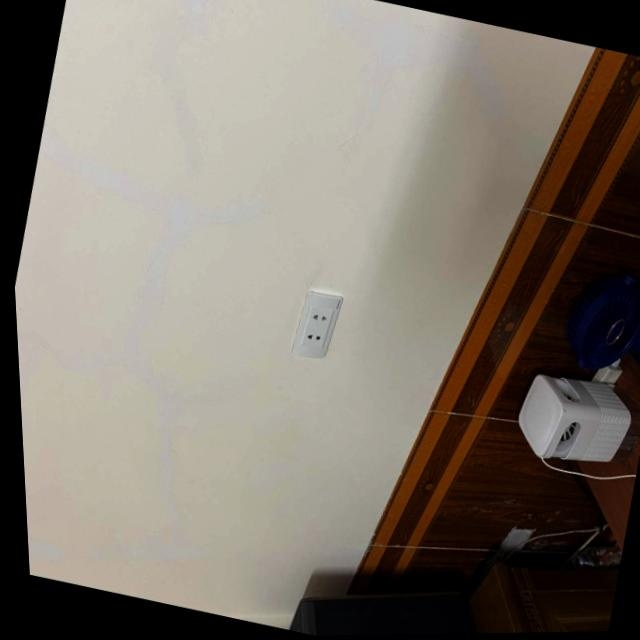outlet: (287, 286, 347, 363)
